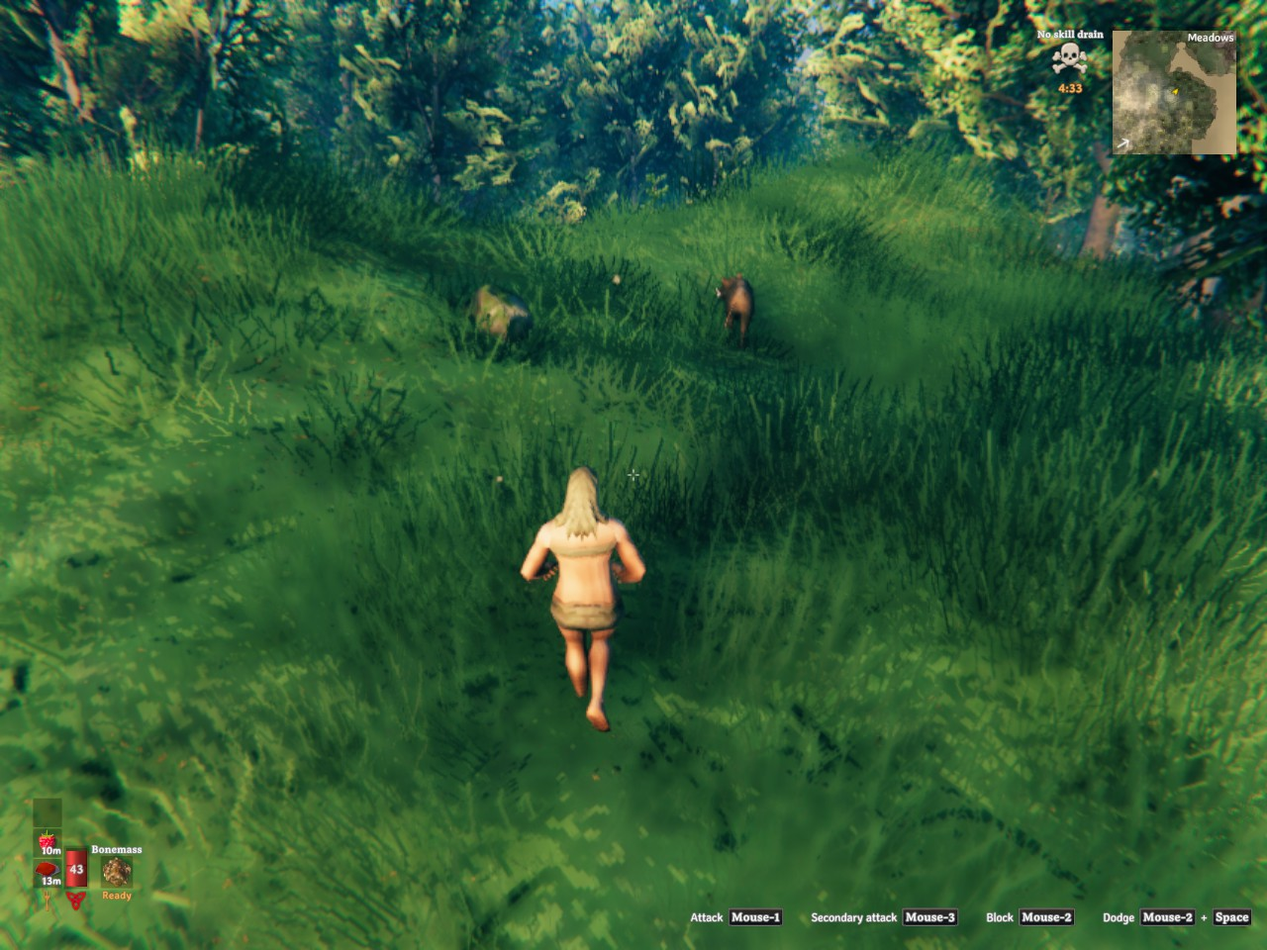Boar: (716, 273, 754, 347)
